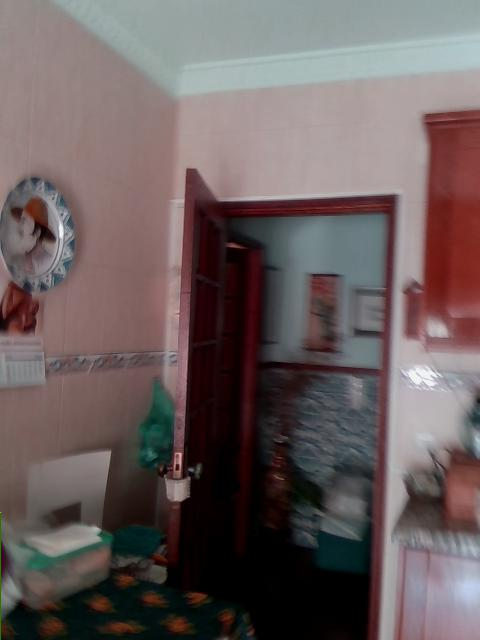open_door: (158, 193, 397, 638)
